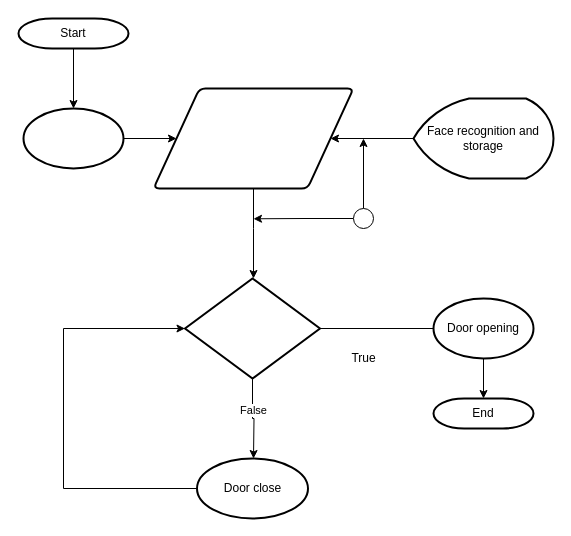
Image size: 571x536. Some labels were removed from this diagram. Here are the shapes that lost their labels. From the top down, the box of each, then its label:
(22, 107, 124, 169): Get SSID and PWD
(152, 87, 354, 189): Get address Login CAMWEBSERVER
(184, 277, 320, 379): If Face match ?
